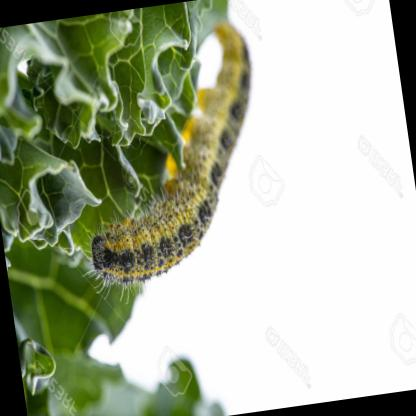pieris: (89, 15, 254, 279)
